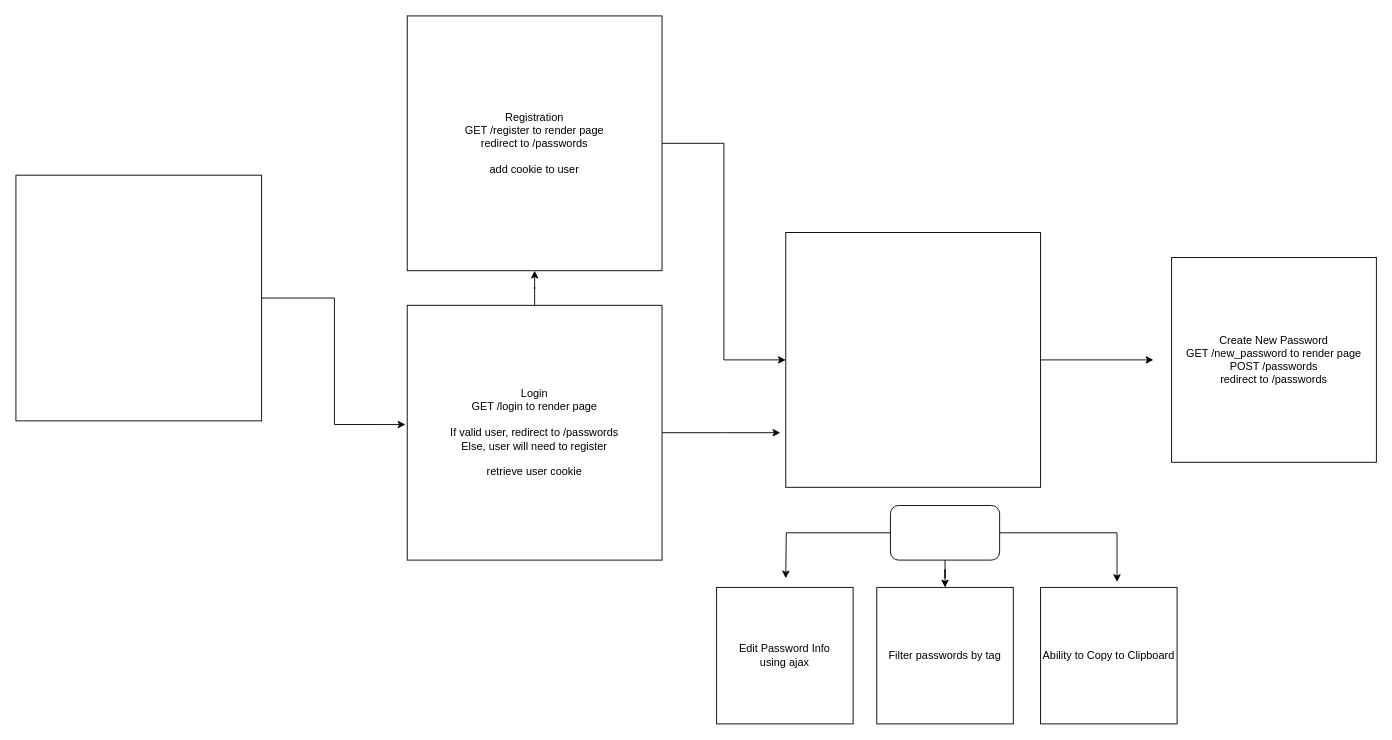
The diagram is 1392 pixels wide and 740 high, and some of its shapes have lost their labels. Here are the shapes that lost their labels. From the top down, the centre of each, then its label:
At [138,297]: "LockD.com GET / redirect to LOGIN".
At [913,359]: "Passwords GET /passwords POST /passwords for editing info".
At [945,532]: "Features /passwords".
